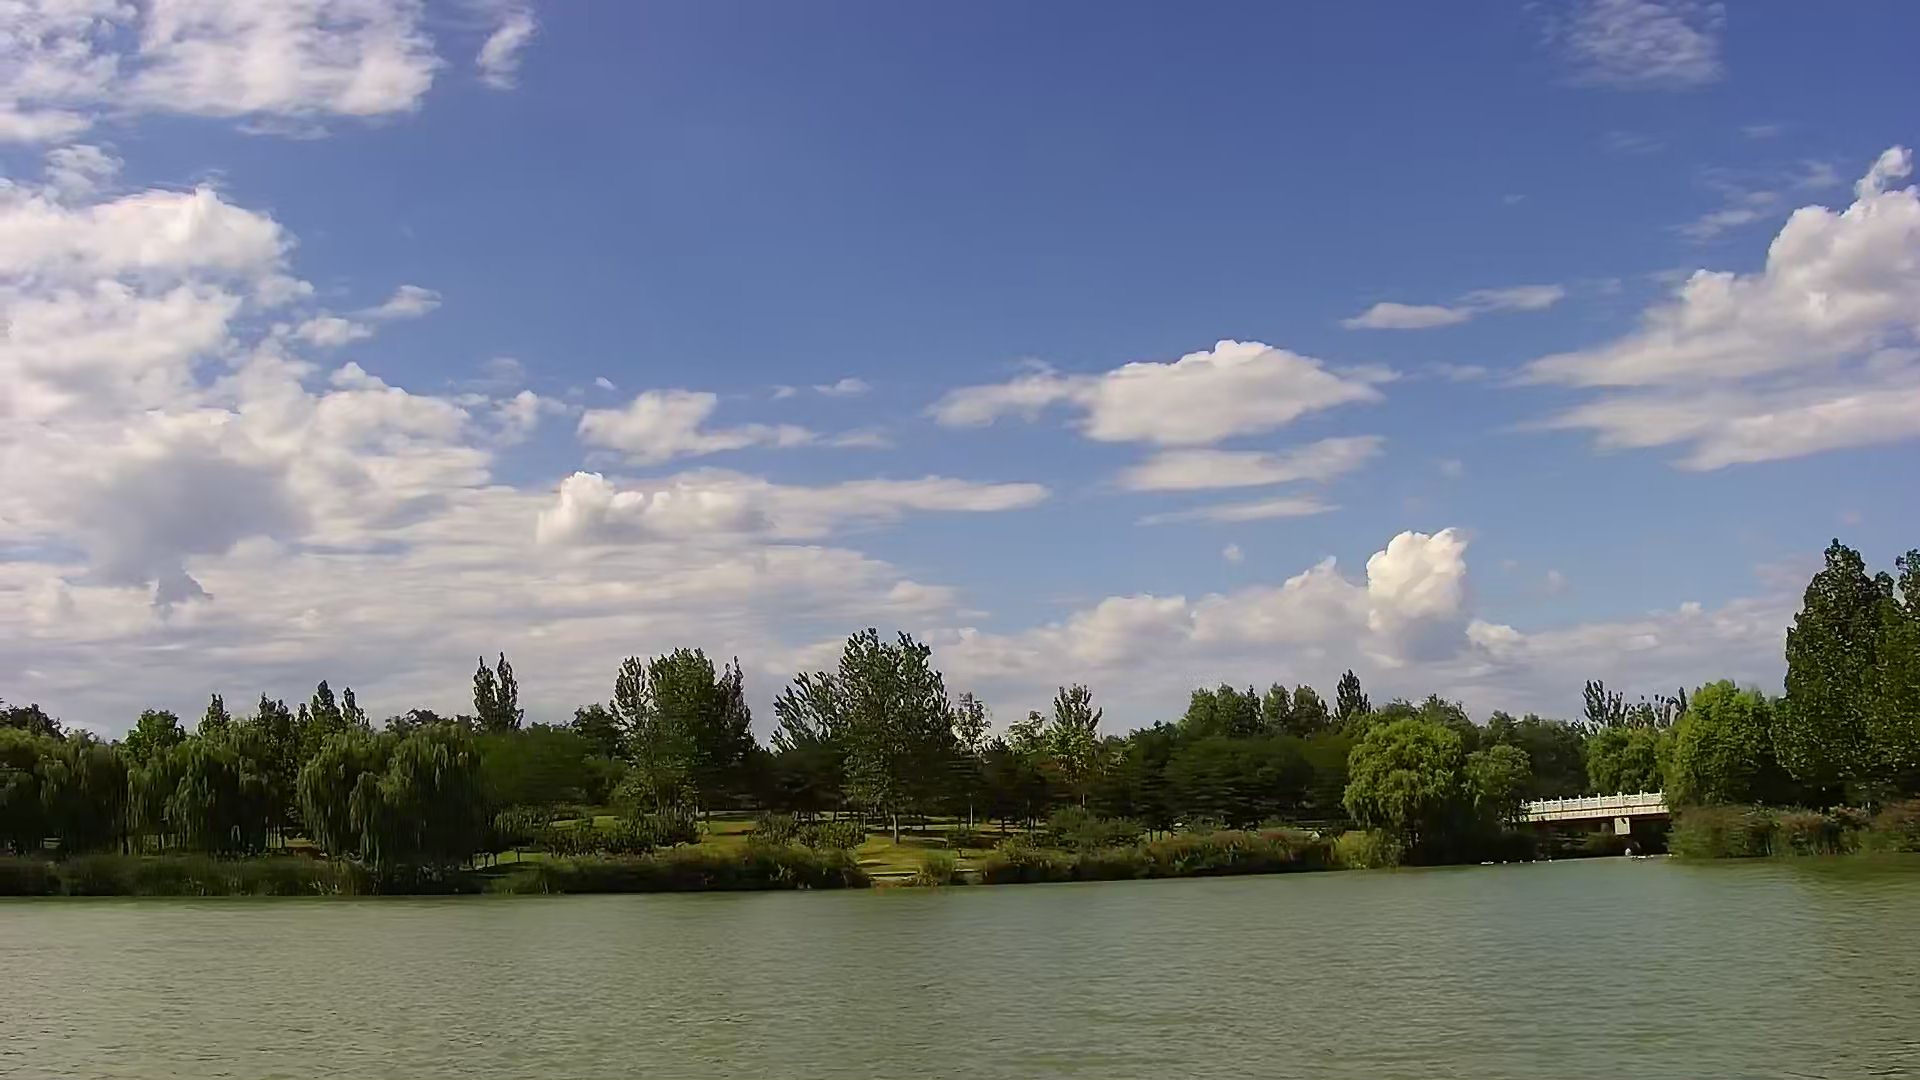bridge: (1528, 789, 1671, 855)
